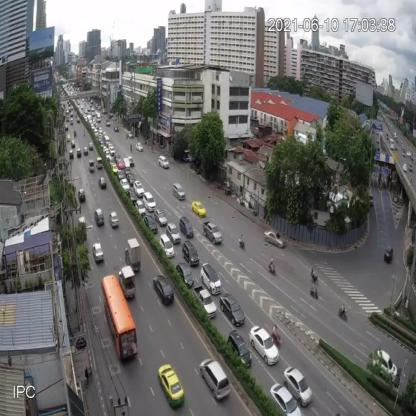bus: (100, 273, 138, 363)
car: (200, 356, 229, 402), (282, 364, 313, 407), (249, 324, 280, 366), (369, 346, 399, 386), (158, 364, 184, 410), (268, 382, 302, 416), (219, 290, 245, 329), (228, 328, 252, 368), (192, 283, 216, 321), (152, 272, 175, 309), (200, 262, 221, 298), (202, 219, 223, 245), (264, 226, 286, 249), (177, 260, 194, 289), (182, 241, 200, 267)
motorcycle: (272, 322, 284, 348), (338, 301, 348, 322), (268, 254, 276, 277), (310, 266, 319, 284), (310, 283, 318, 301), (238, 231, 245, 250)
truck: (124, 240, 141, 274), (119, 267, 136, 299)
